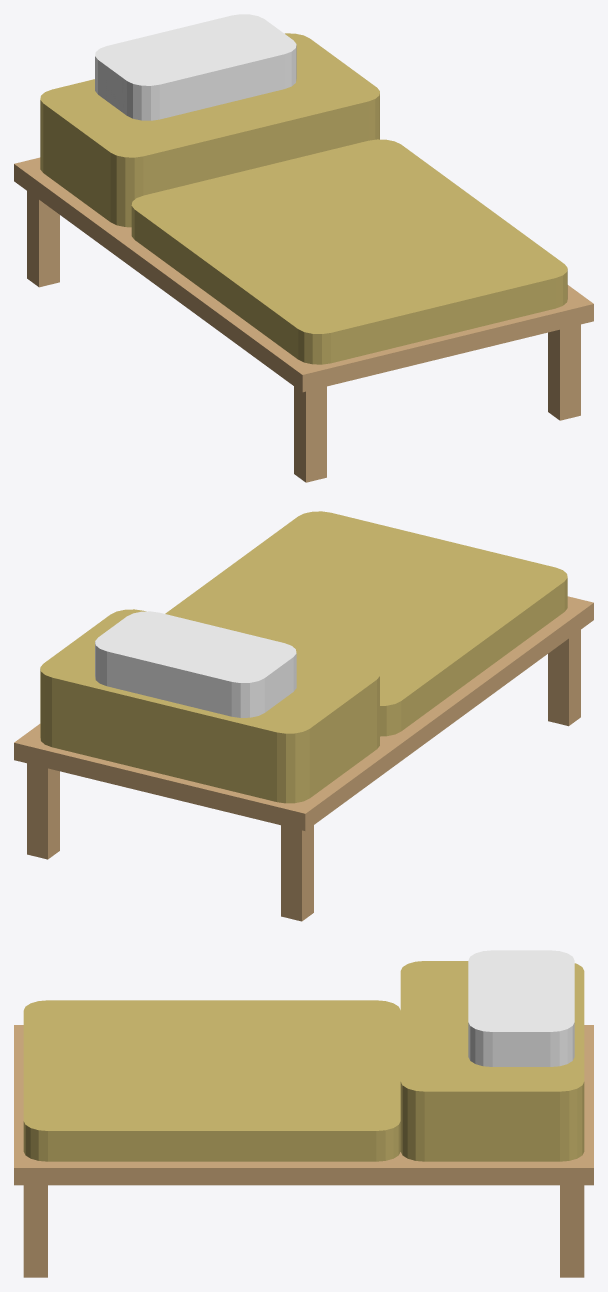
The model's file is sun_lounger.glb.
3 renders of one model, top to bottom at view 1: azimuth 30°, elevation 25°; view 2: azimuth 150°, elevation 25°; view 3: azimuth 270°, elevation 25°, orthographic.
Visible parts, largest first — view 1: sun_lounger_Body; view 2: sun_lounger_Body; view 3: sun_lounger_Body.
Part boxes in pixels (x1,y1,x2,y2): sun_lounger_Body: [14, 14, 593, 482]; sun_lounger_Body: [14, 511, 593, 921]; sun_lounger_Body: [14, 950, 593, 1277].
Size of the model in its own units: 0.7 by 0.5 by 1.2.
